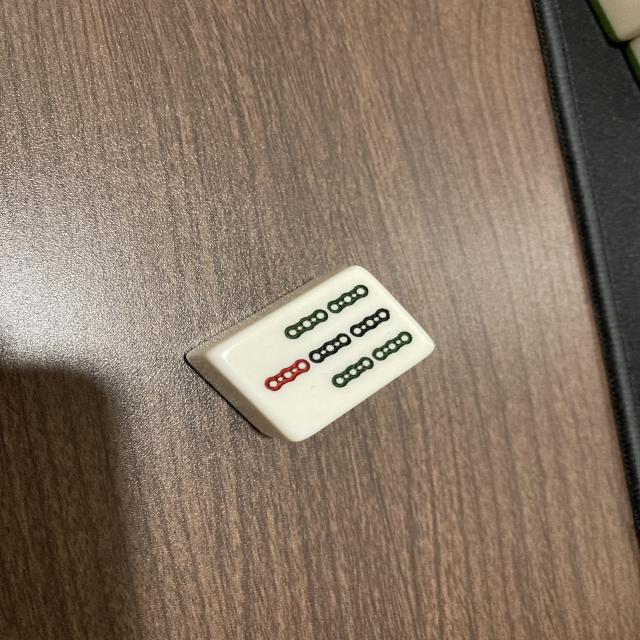s7: (220, 266, 436, 444)
